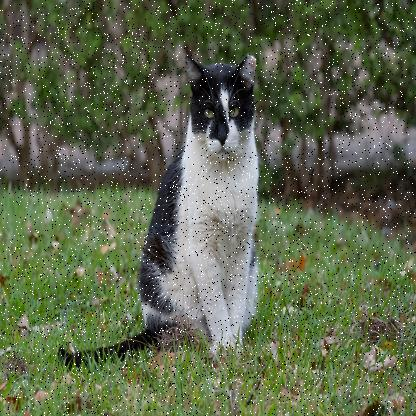cat: (122, 43, 282, 362)
